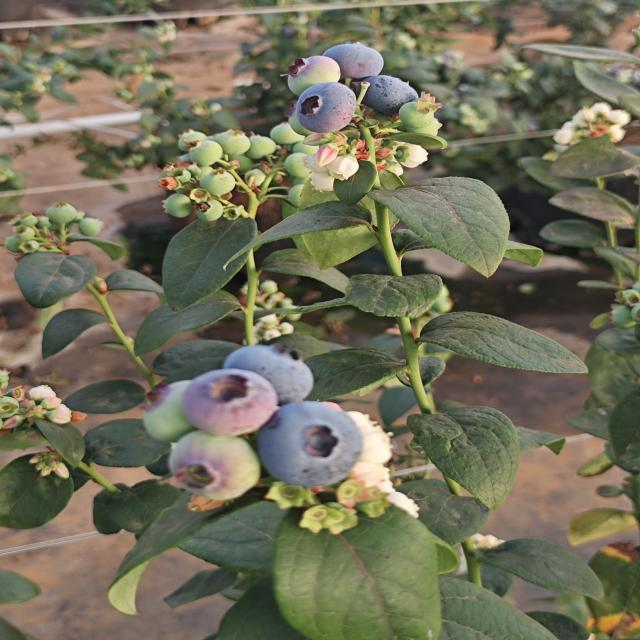ripe: (258, 393, 366, 492), (218, 336, 314, 406), (283, 80, 369, 136), (320, 36, 391, 84), (360, 73, 426, 118)
